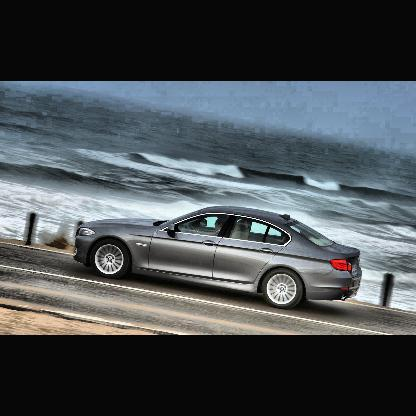BMW ActiveHybrid 5 Sedan 2012: (69, 205, 369, 313)
